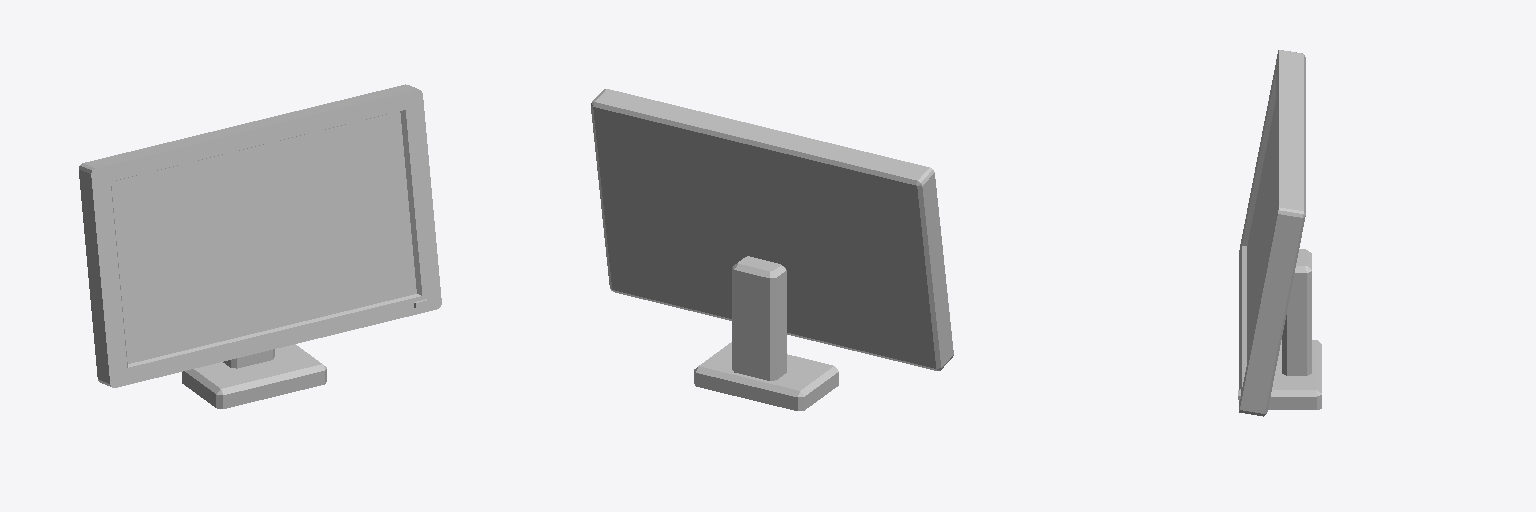
The model's file is monitor.obj.
The picture shows the model from 3 angles: view 1: azimuth 30°, elevation 25°; view 2: azimuth 150°, elevation 25°; view 3: azimuth 270°, elevation 25°; orthographic projection.
Visible parts, largest first — view 1: monitor_Cube.18237; view 2: monitor_Cube.18237; view 3: monitor_Cube.18237.
Boxes of the visible parts, x1=… form: monitor_Cube.18237: x1=79, y1=84, x2=441, y2=408; monitor_Cube.18237: x1=591, y1=89, x2=953, y2=410; monitor_Cube.18237: x1=1238, y1=50, x2=1321, y2=416.
Size of the model in its own units: 1.5 by 1.1 by 0.3329.